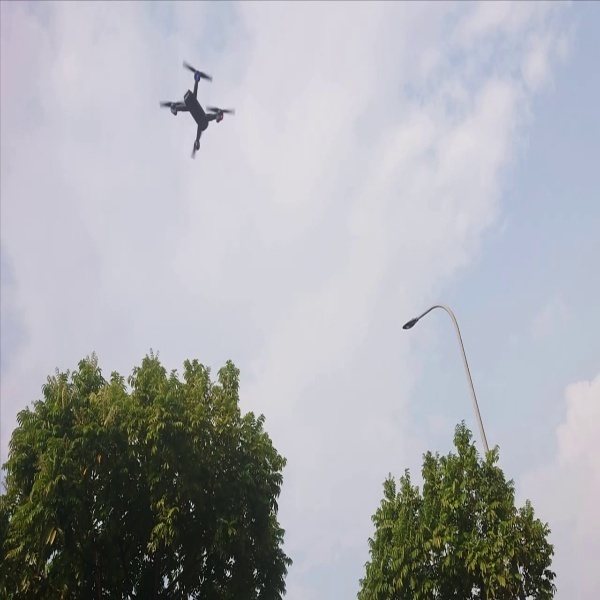drone: (140, 57, 239, 158)
